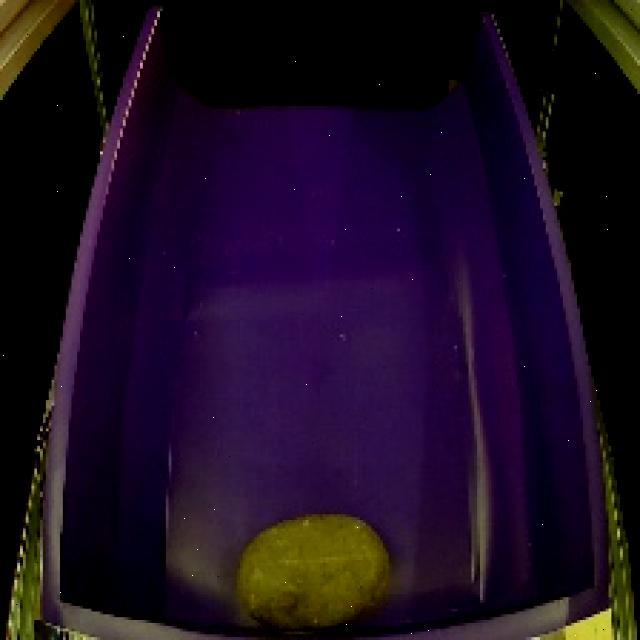cobbles: (227, 496, 403, 639)
